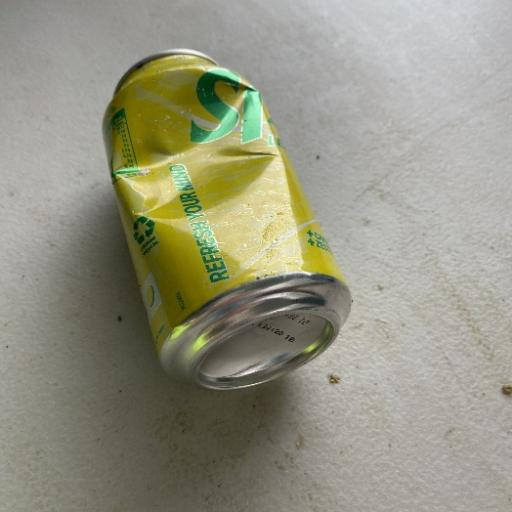Metal: (100, 47, 354, 393)
